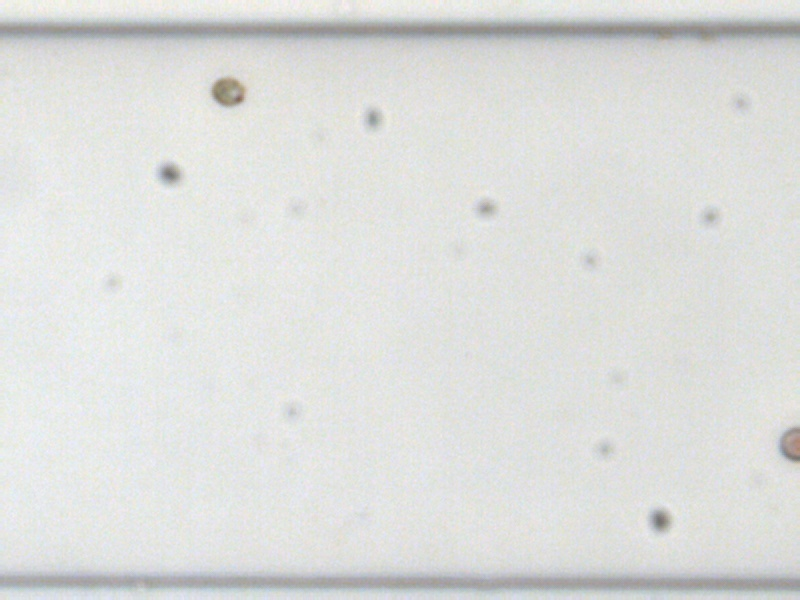Dunaliella salina: (205, 78, 247, 106)
Porphyridium: (779, 426, 799, 459)
